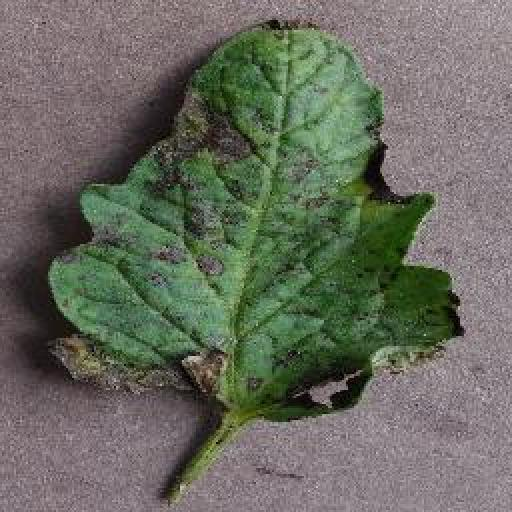Early Blight: (47, 20, 464, 427)
